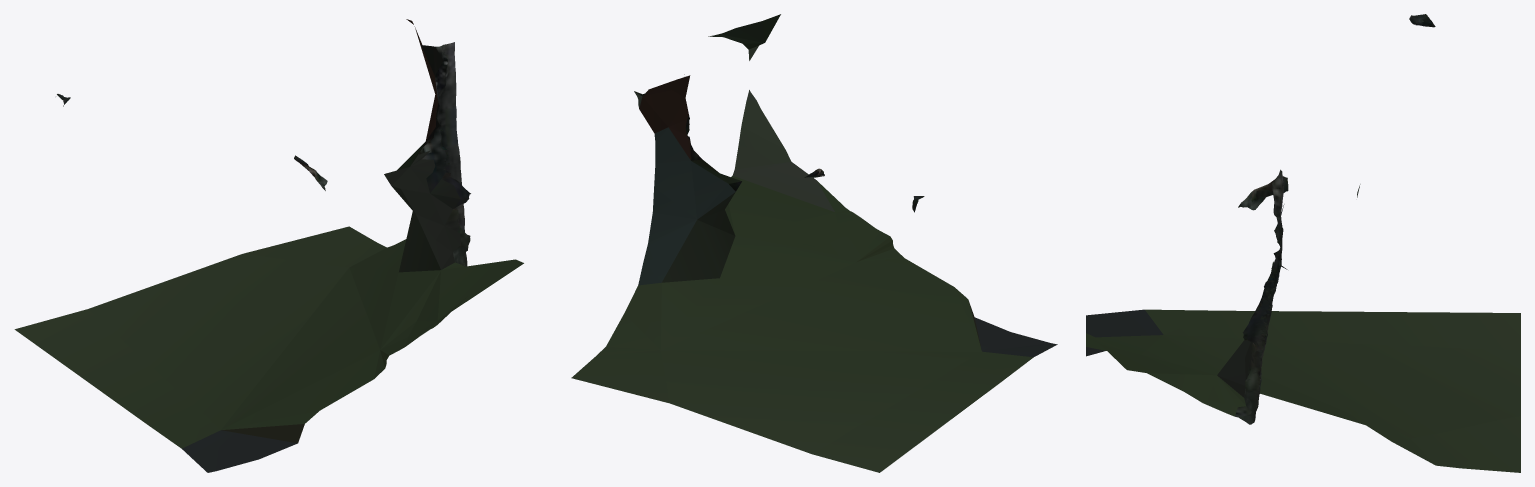
3 views of the same model, side by side, from view 1: azimuth 30°, elevation 25°; view 2: azimuth 150°, elevation 25°; view 3: azimuth 270°, elevation 25° (orthographic). The views are drawn at different scales.
Size of the model in its own units: 1.97 by 1.6 by 1.97.
1 material, 1 textured.
